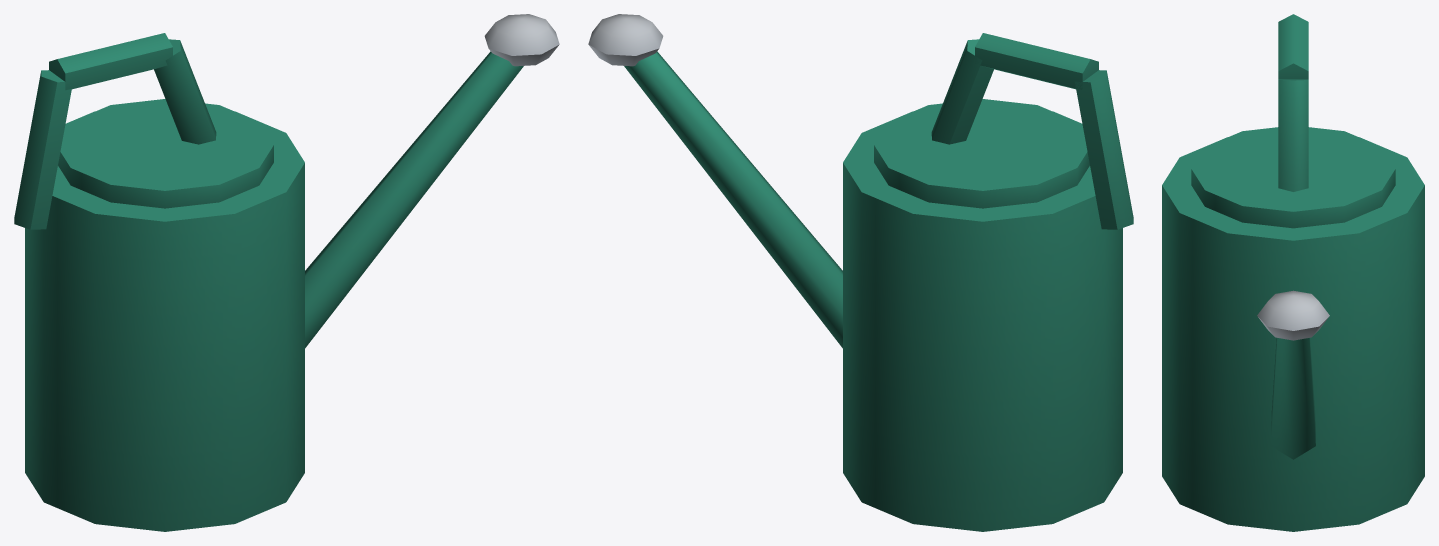
Rendered from ck_watering_can.fbx.
3 renders of one model, left to right at view 1: azimuth 30°, elevation 25°; view 2: azimuth 150°, elevation 25°; view 3: azimuth 270°, elevation 25°, orthographic. The views are drawn at different scales.
Visible parts, largest first — view 1: ck_watering_can; view 2: ck_watering_can; view 3: ck_watering_can.
Boxes of the visible parts, x1,y1,x2,y2 form: ck_watering_can: (14,14,559,531); ck_watering_can: (588,14,1133,531); ck_watering_can: (1162,14,1424,531).
Size of the model in its own units: 130 by 101 by 58.24.
